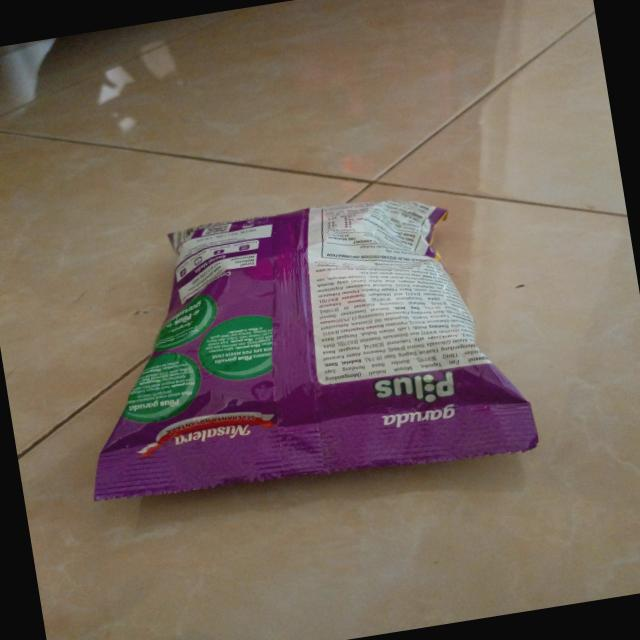pilus-rendang: (57, 175, 544, 526)
